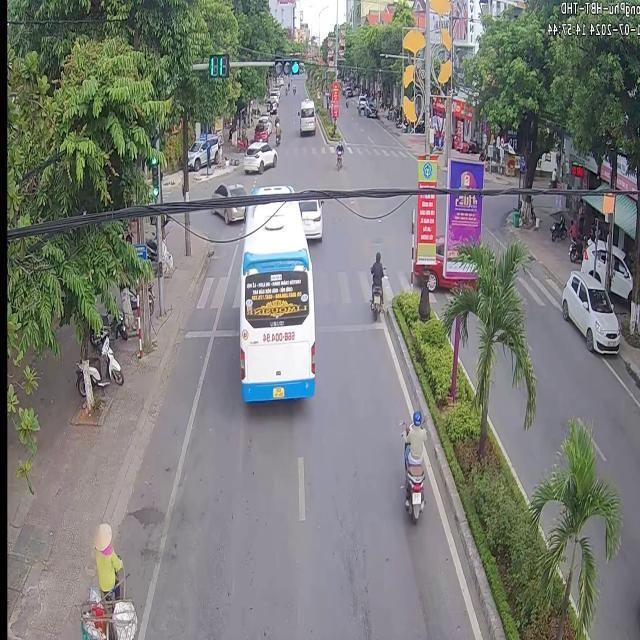car: (238, 200, 313, 400), (298, 196, 322, 240), (242, 140, 276, 171)
green_light: (258, 54, 300, 75), (149, 156, 157, 199)
motobike: (398, 409, 424, 520), (369, 251, 383, 316)
stop_line: (313, 320, 382, 333), (184, 327, 237, 338)
